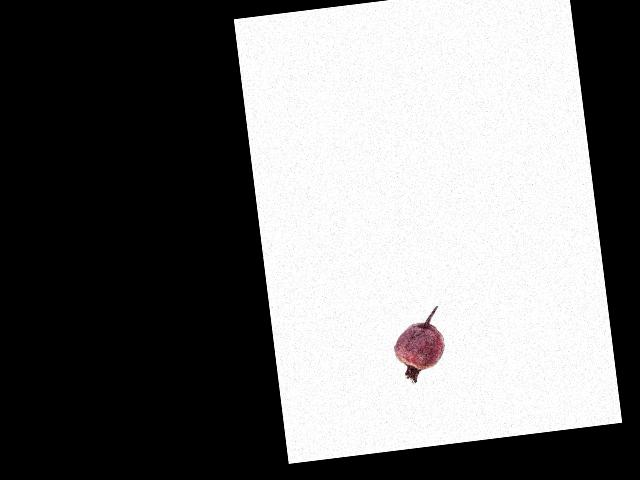beet: (389, 305, 449, 385)
